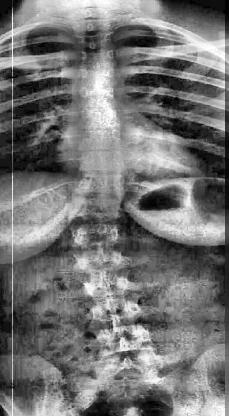Vertebrae: (94, 326, 152, 354), (84, 276, 136, 302), (73, 199, 123, 225), (74, 174, 124, 200), (76, 151, 126, 177), (74, 225, 121, 251), (92, 304, 146, 326), (76, 254, 130, 276), (80, 109, 126, 133), (82, 130, 126, 152), (80, 88, 122, 108), (75, 34, 115, 53), (78, 68, 120, 86), (77, 50, 116, 68), (74, 20, 105, 32)
